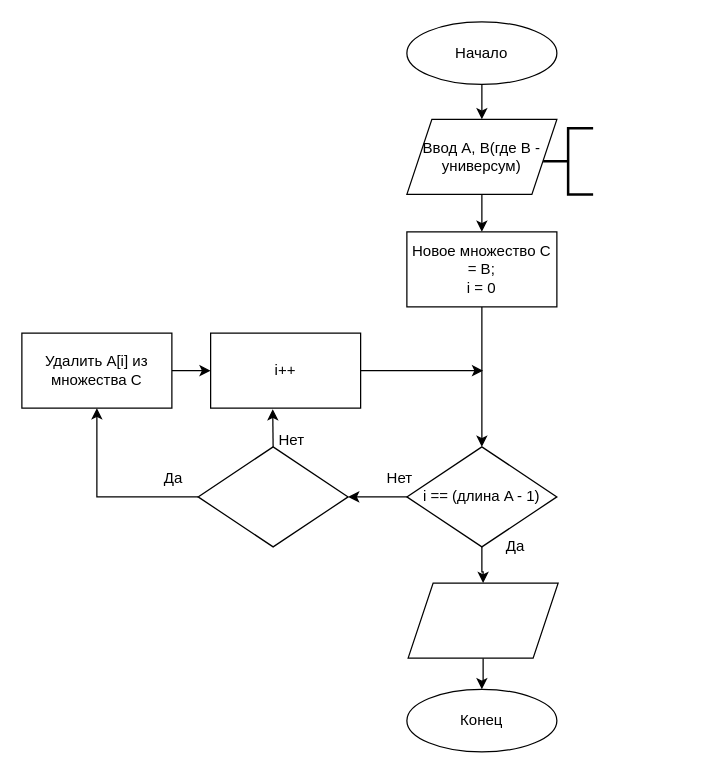
This 715x774 diagram has some shape labels left out. Here are the shapes that lost their labels. From the top down, the box of each, then its label:
(541, 126, 594, 195): B - универсум
(197, 446, 348, 547): A[i] есть в множестве C?
(407, 582, 558, 658): Вывод C
